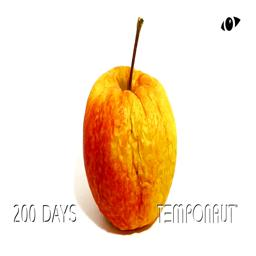Apple Overripe: (84, 18, 176, 229)
